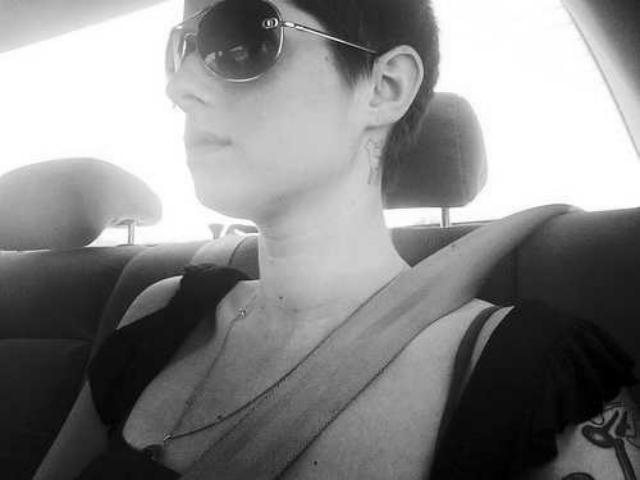Seatbelt: (178, 202, 566, 480)
